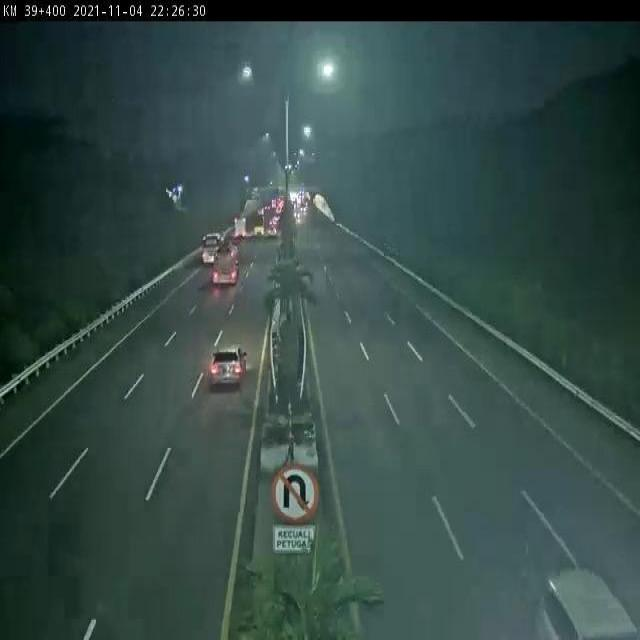bus-l-: (198, 232, 228, 269)
car: (519, 564, 640, 640), (210, 346, 247, 402), (71, 533, 72, 536)
truck-xl-: (214, 240, 241, 288)
